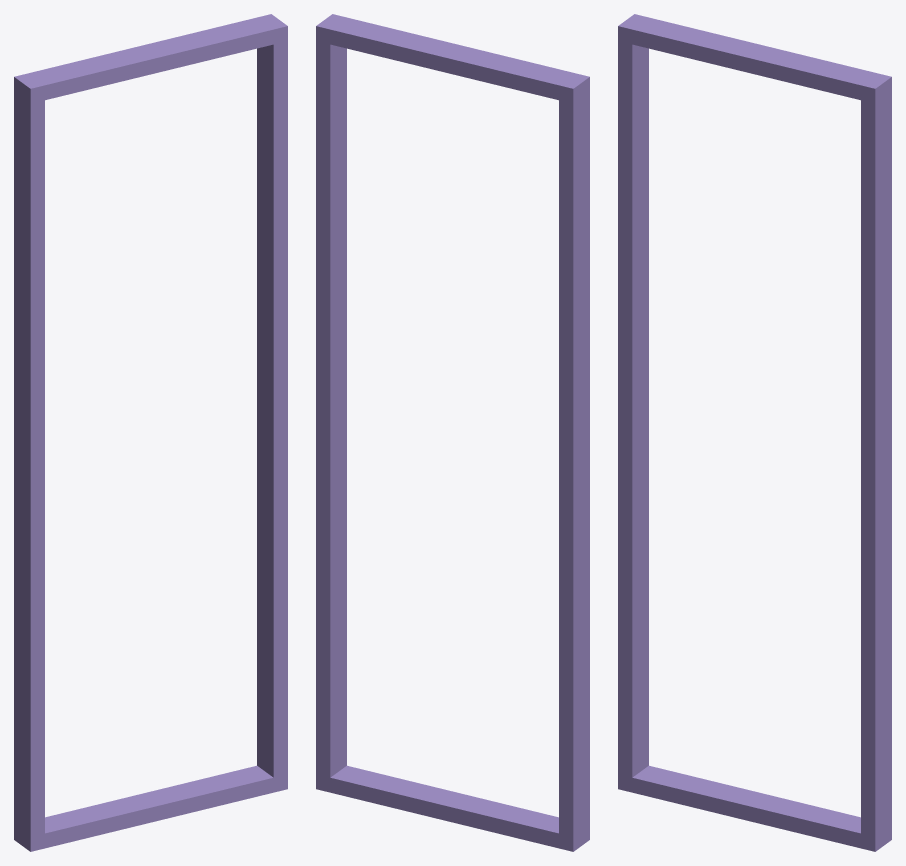
The picture shows the model from 3 angles, left to right: view 1: azimuth 30°, elevation 25°; view 2: azimuth 150°, elevation 25°; view 3: azimuth 330°, elevation 25°; orthographic projection.
Visible parts, largest first — view 1: Elevator <1>; view 2: Elevator <1>; view 3: Elevator <1>.
Part boxes in pixels (x1,y1,x2,y2): Elevator <1>: [14, 14, 287, 851]; Elevator <1>: [316, 14, 589, 851]; Elevator <1>: [618, 14, 891, 851].
Bounding box in the file's own units: 0.4572 × 1.3 × 0.0508.
